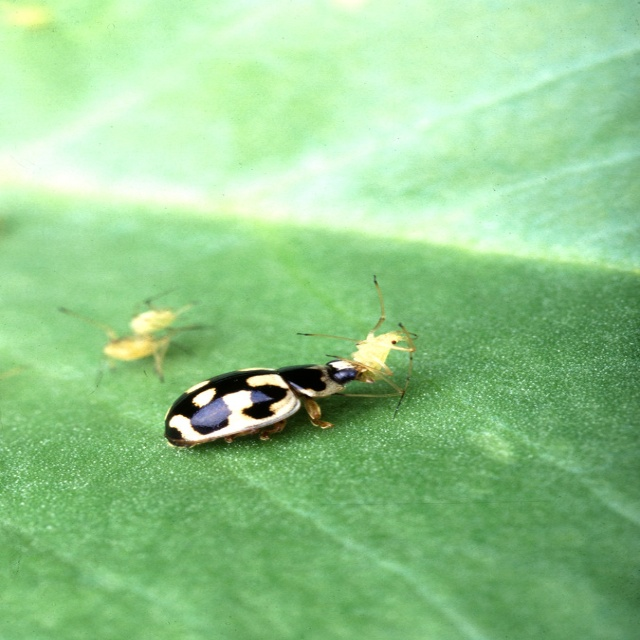Ladybug: (164, 361, 373, 453)
